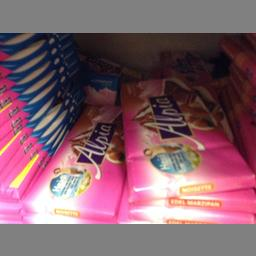chocolate: (120, 75, 255, 200), (28, 102, 124, 217)
